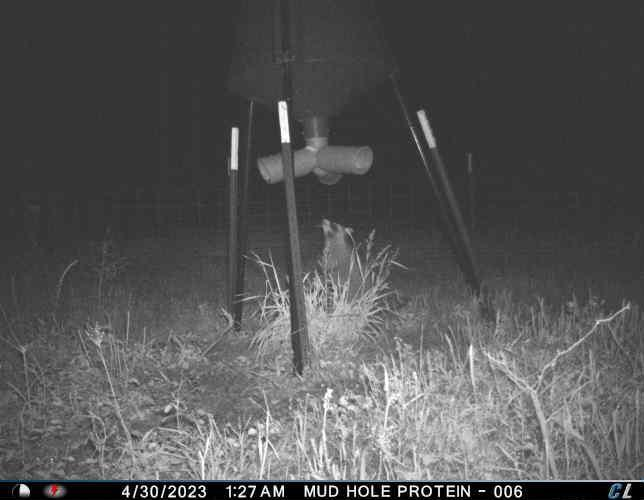Raccoon: (319, 214, 370, 309)
